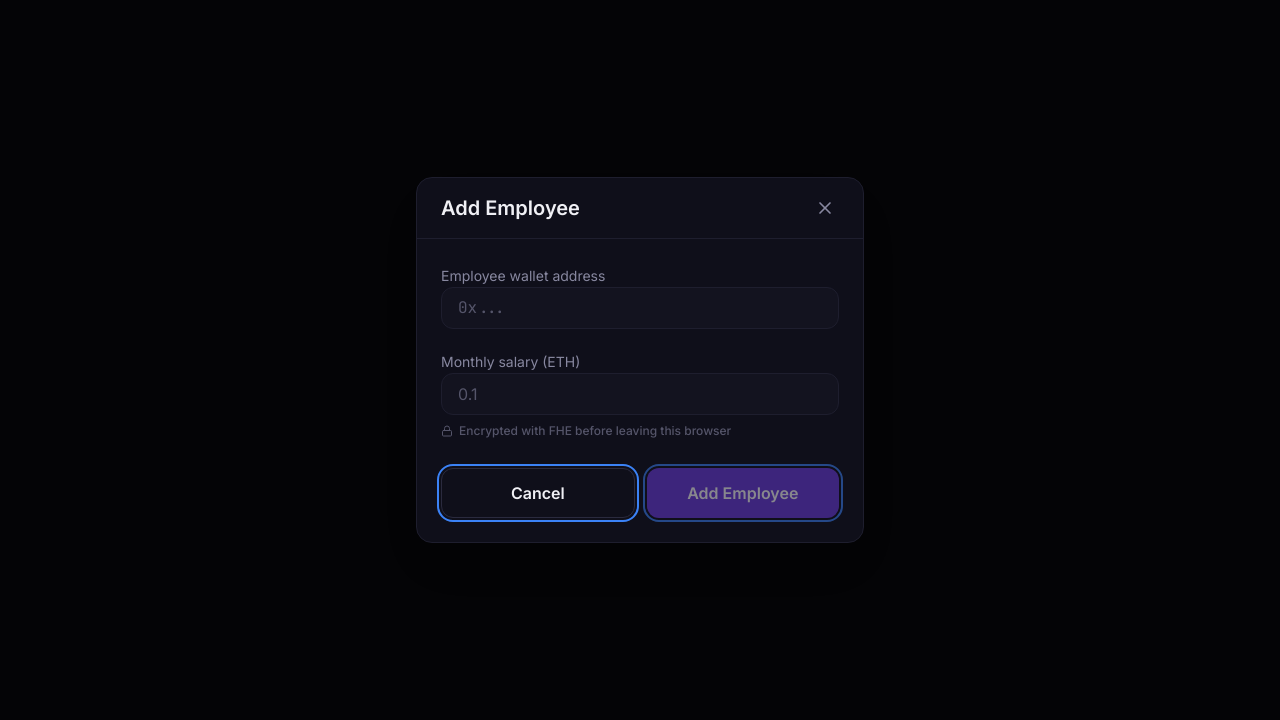
Test case: AddEmployeeModal › error handling › shows the error state when encryption throws
In the field with placeholder "0x...": (640, 308) [441,287,839,329], type "0xCa21b5f07a126F649EBFFAE82F997334e85E00AF"
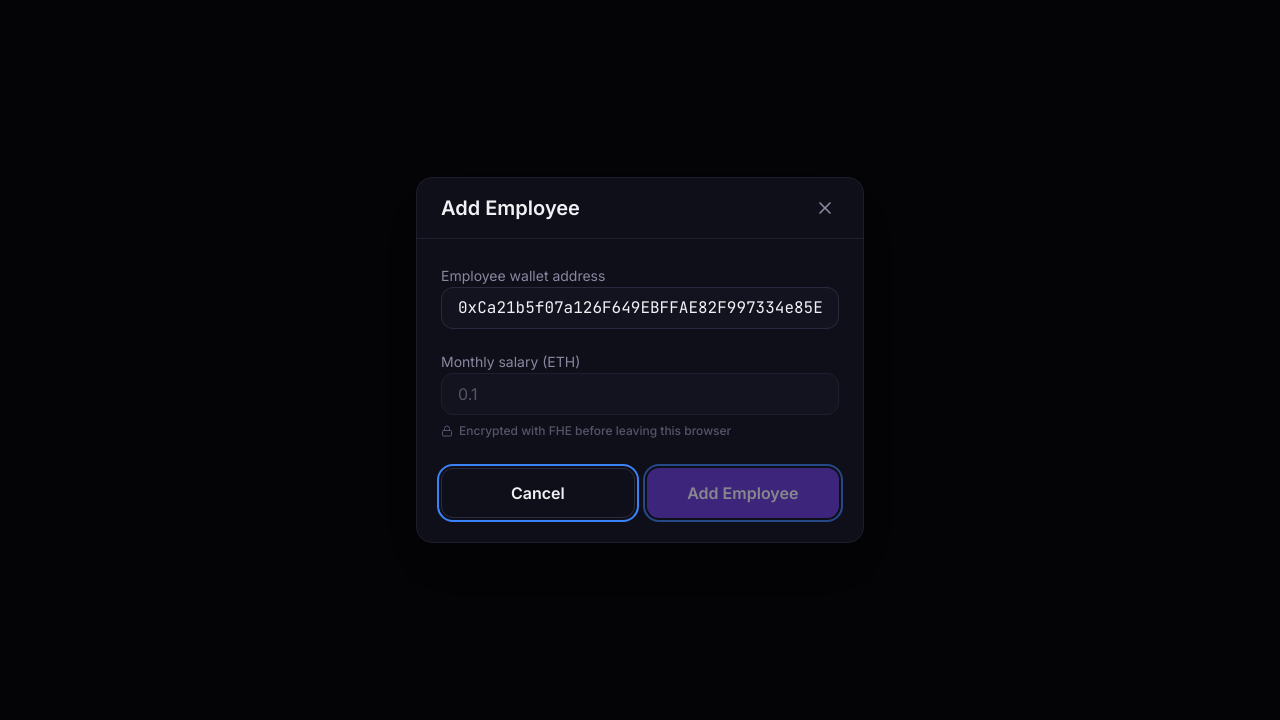
In the number field with placeholder "0.1": (640, 394) [441,373,839,415], type "0.05"
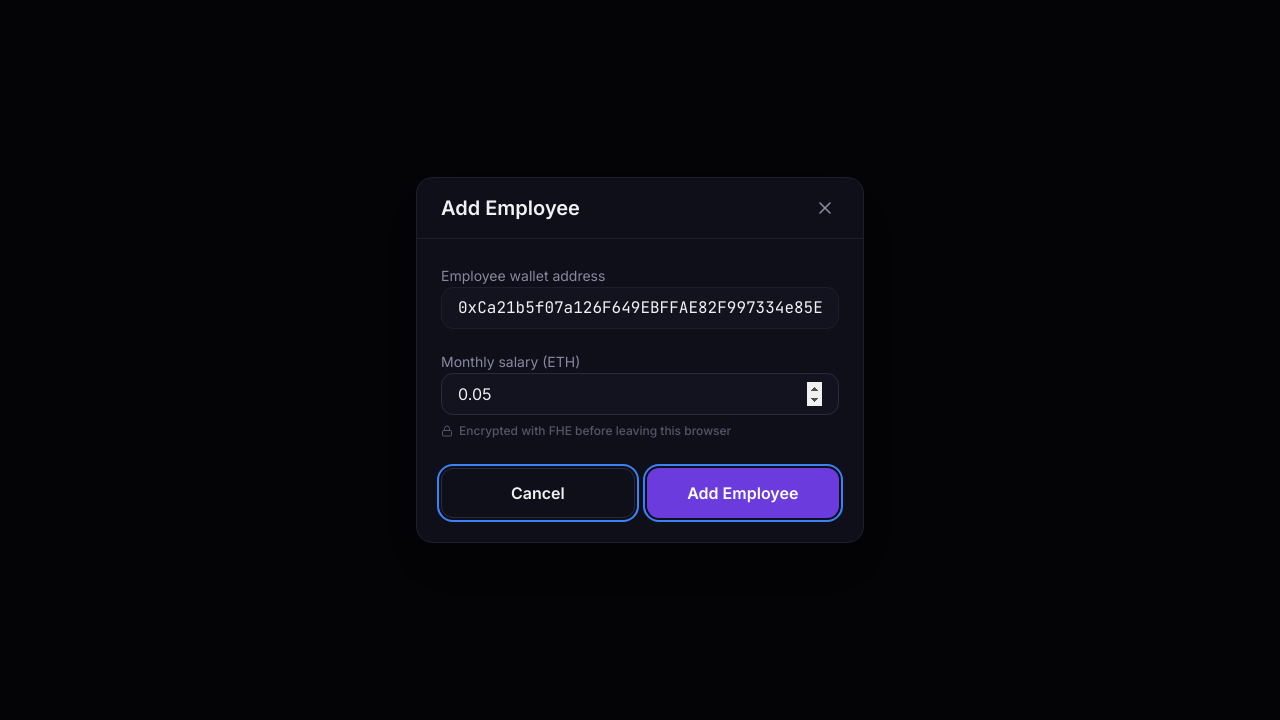
Click the button "Add Employee": click(743, 493) [647,468,839,518]
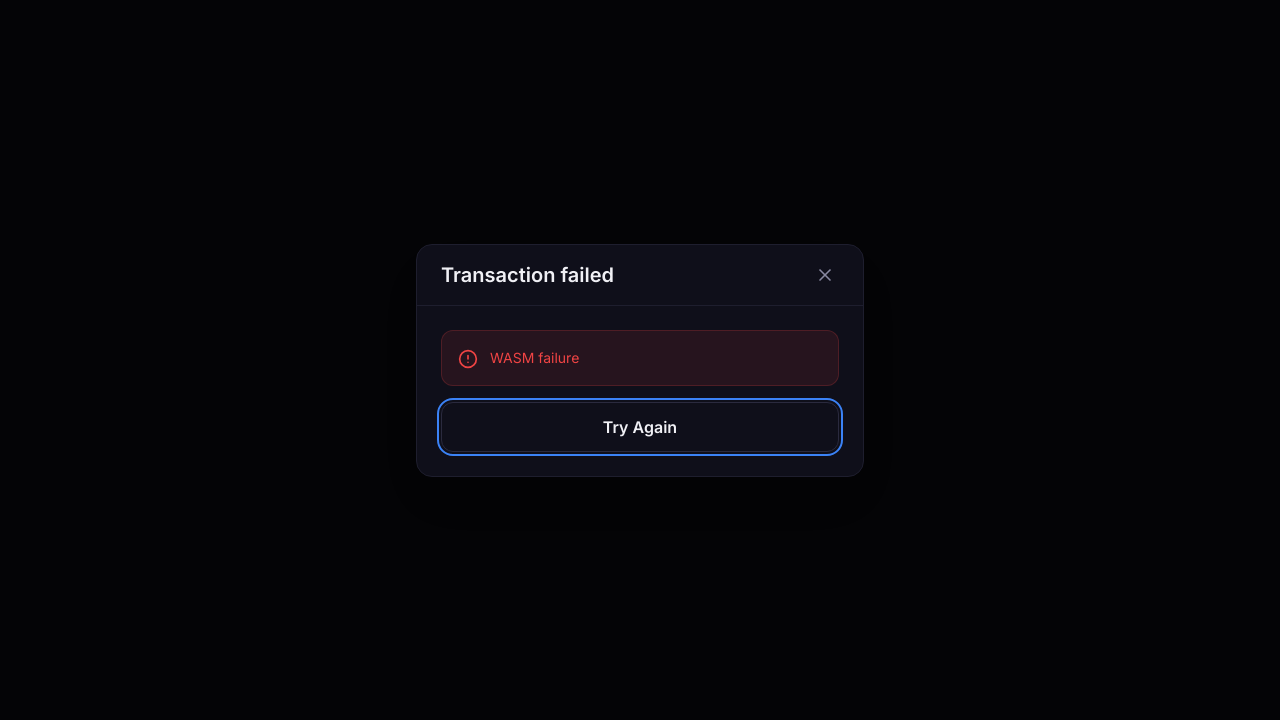
expect the text "WASM failure" is shown: met, box [490,346,579,368]
